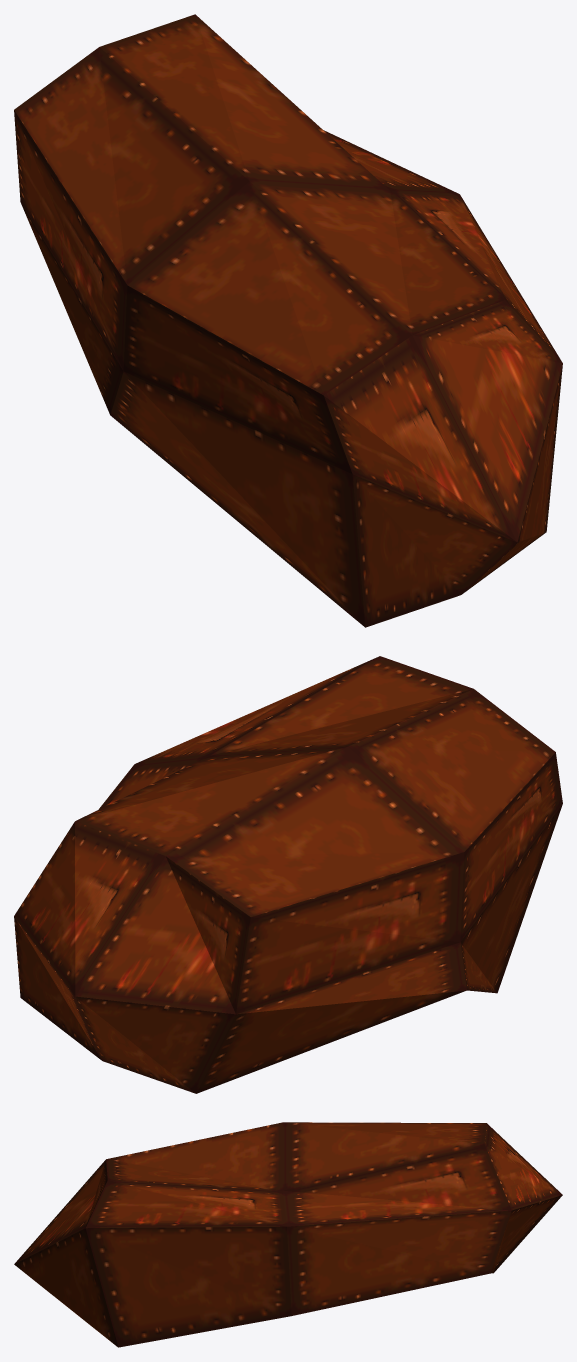
The model's file is ZeppelinHalleTeil_Wrack3_843.glb.
3 views of the same model, one above another, from view 1: azimuth 30°, elevation 25°; view 2: azimuth 150°, elevation 25°; view 3: azimuth 270°, elevation 25° (orthographic). The views are drawn at different scales.
Visible parts, largest first — view 1: pCubeShape6; view 2: pCubeShape6; view 3: pCubeShape6.
Part boxes in pixels (x1,y1,x2,y2): pCubeShape6: (14,14,562,627); pCubeShape6: (14,656,562,1093); pCubeShape6: (14,1122,562,1347).
Size of the model in its own units: 1.5 by 1.51 by 3.42.
1 material, 1 textured.
